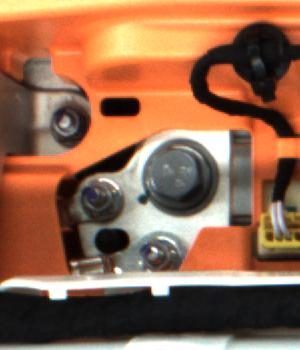nut_b: (141, 128, 226, 222)
screw_s: (78, 179, 120, 217), (142, 234, 178, 273), (48, 106, 83, 140)
